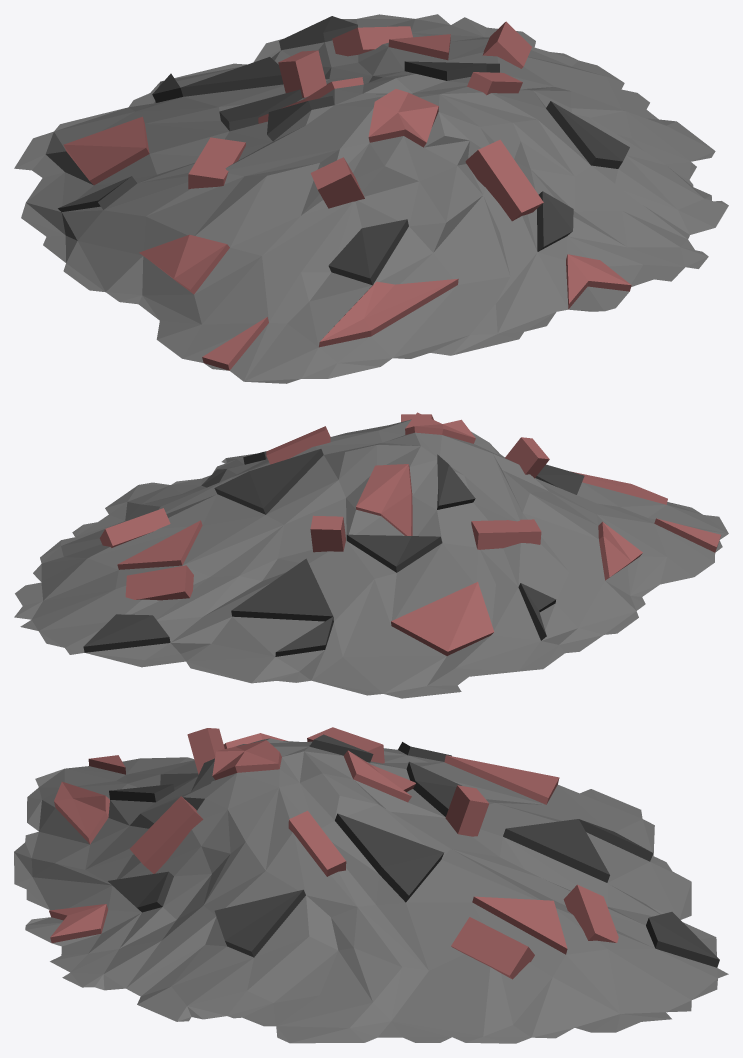
The model's file is Bricks debris.fbx.
The picture shows the model from 3 angles, top to bottom: view 1: azimuth 30°, elevation 25°; view 2: azimuth 150°, elevation 25°; view 3: azimuth 270°, elevation 25°; orthographic projection. The views are drawn at different scales.
Visible parts, largest first — view 1: Cube.008; view 2: Cube.008; view 3: Cube.008.
Boxes of the visible parts, <box> form: Cube.008: <box>14,14,728,383</box>; Cube.008: <box>14,412,728,698</box>; Cube.008: <box>14,727,728,1043</box>.
Bounding box in the file's own units: 169 × 38.8 × 178.
